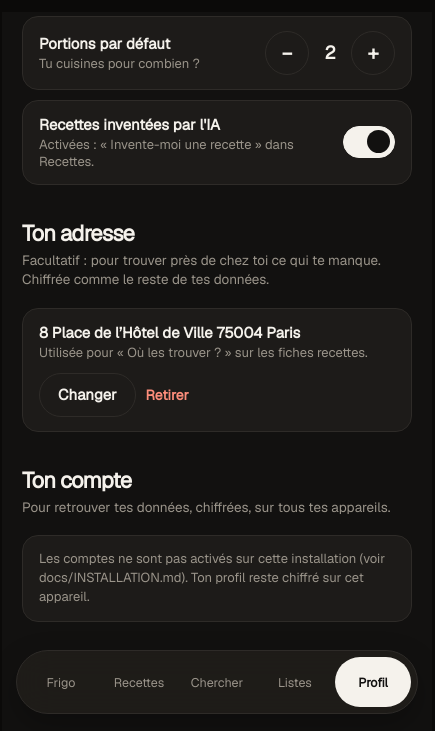
Scenario: Où les trouver ? › keeps the address in the profile, where it can be removed
(page scrolled)
Expected: the heading "Ton adresse" is shown, [22,219,134,247]
Expected: the text "8 Place de l’Hôtel de Ville 75004 Paris" is shown, [39,323,300,342]
Click the button "Retirer": (167,395) [146,373,189,417]
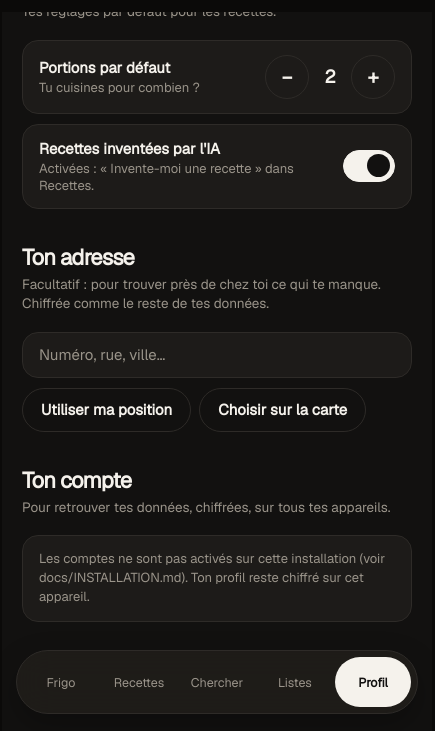
Now the button "Utiliser ma position" is shown, box [22,388,191,432]
